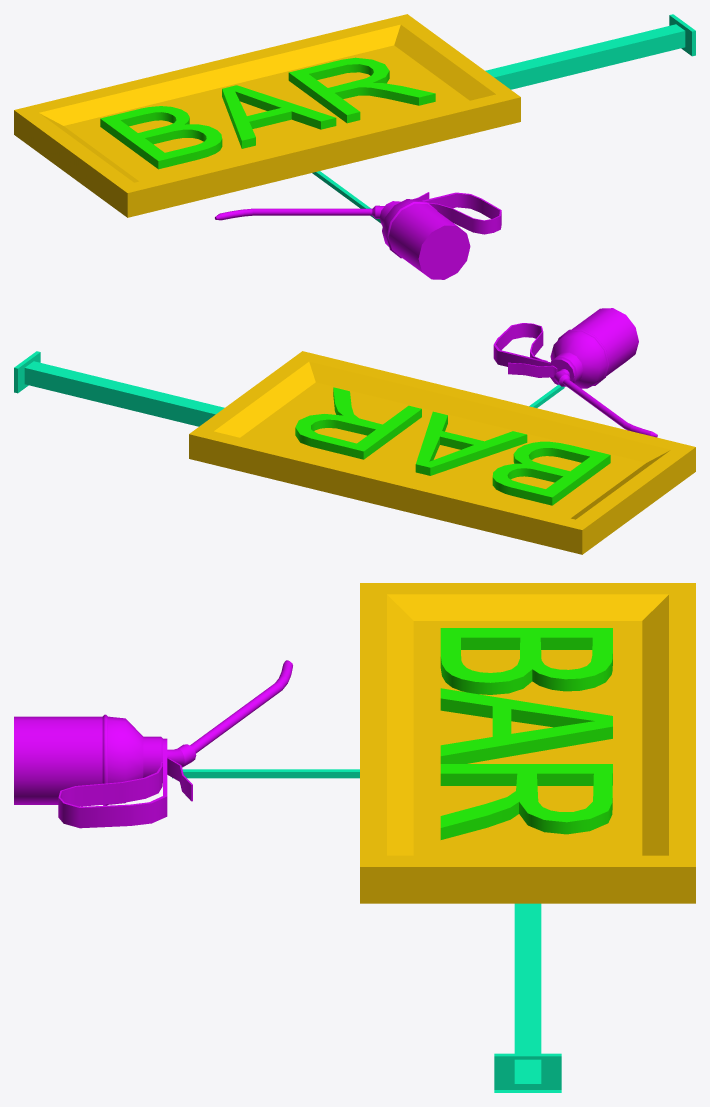
File: Bar_2_uv.FBX
The picture shows the model from 3 angles, top to bottom: view 1: azimuth 30°, elevation 25°; view 2: azimuth 150°, elevation 25°; view 3: azimuth 270°, elevation 25°; orthographic projection. The views are drawn at different scales.
Visible parts, largest first — view 1: Bar sign; view 2: Bar sign; view 3: Bar sign.
Part boxes in pixels (<box>): Bar sign: <box>14,14,695,279</box>; Bar sign: <box>14,308,695,554</box>; Bar sign: <box>14,583,695,1092</box>.
Bounding box in the file's own units: 156 × 13.75 × 102.
